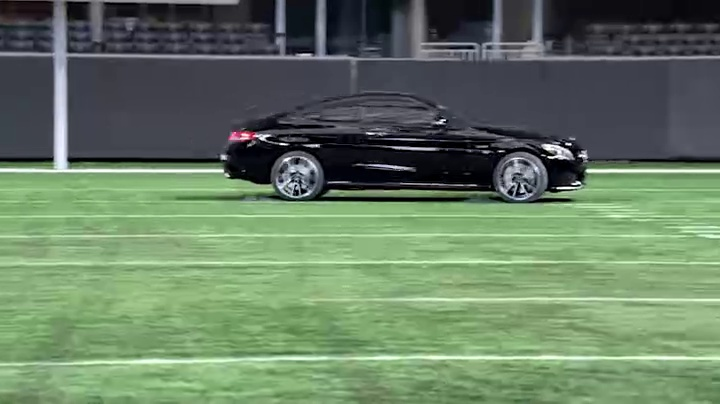amg: (217, 92, 589, 205)
